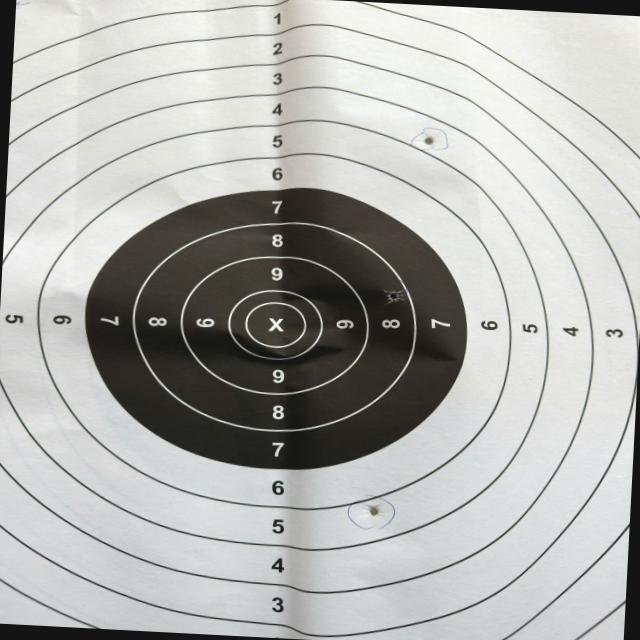bullet: (385, 291, 401, 303), (370, 507, 382, 519), (426, 137, 433, 145)
target: (0, 0, 640, 640)
